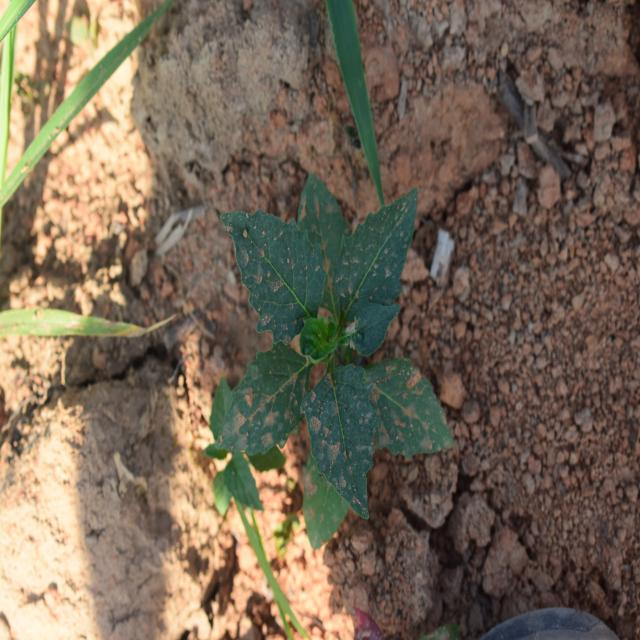Black_nightshade: (203, 152, 424, 488)
